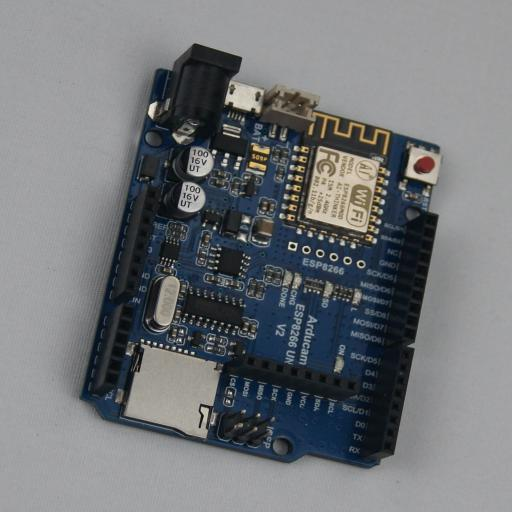Arduino Uno Camera Shield: (78, 43, 440, 469)
